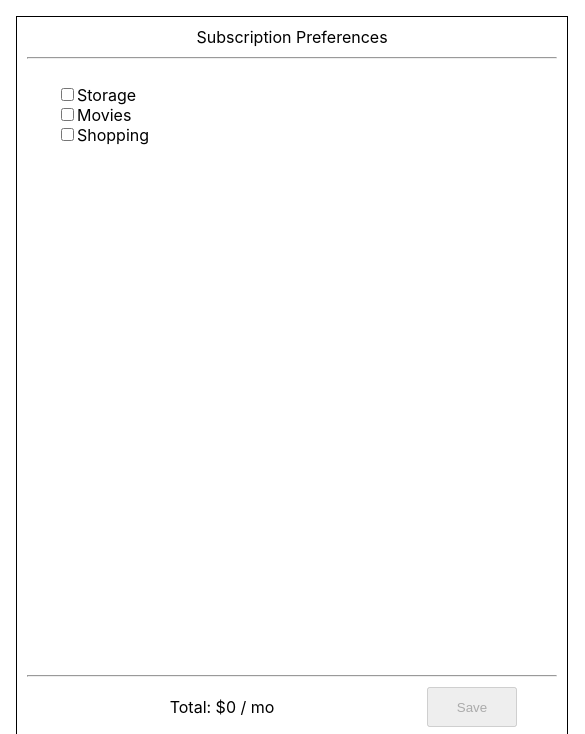
Scenario: Save Button Enable/Disable › Select Feature
Click the checkbox with test id "checkBox" showing "Movies": (68, 114) [61,108,74,121]
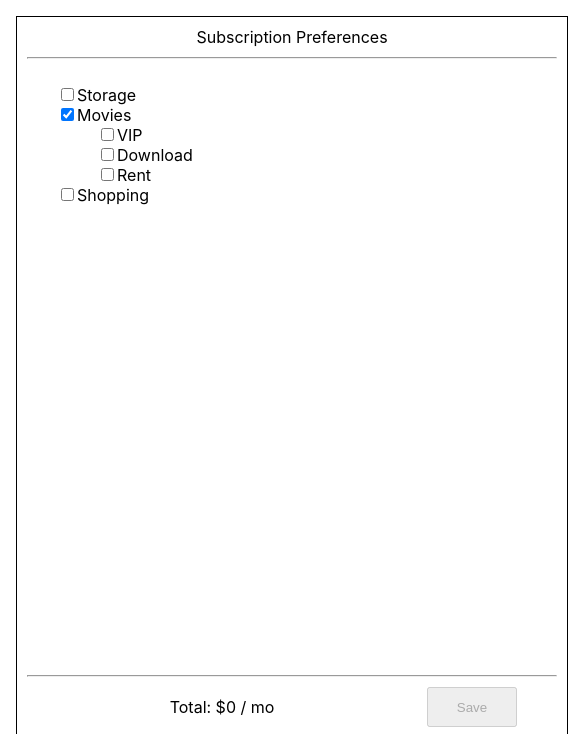
Click the checkbox with test id "checkBox" showing "Download": (108, 154) [101,148,114,161]
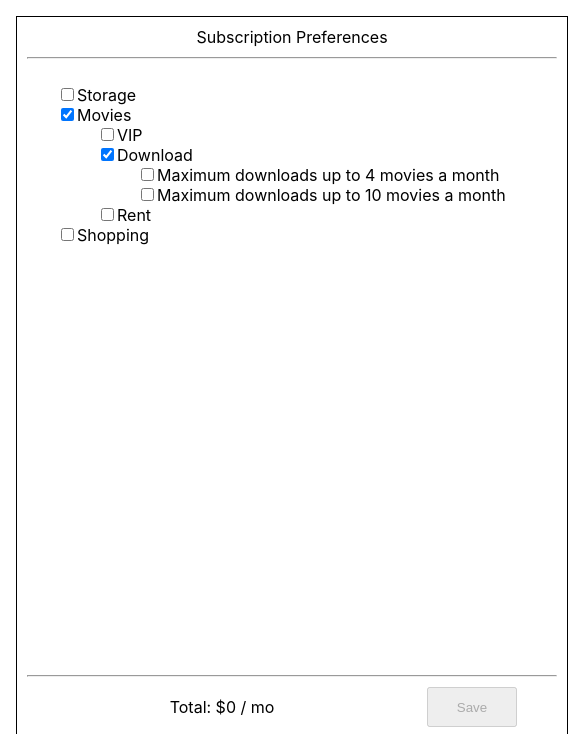
Click the 5th checkbox with test id "checkBox": (148, 174) [141,168,154,181]
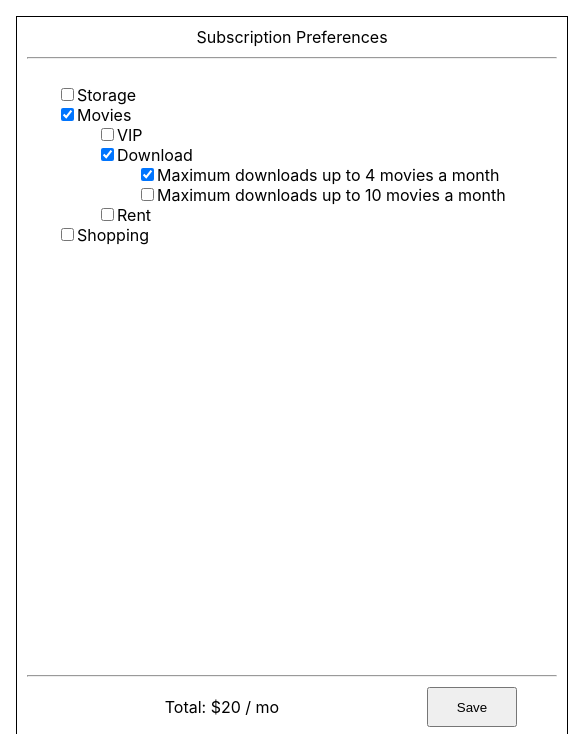
Now the button with test id "save_button" is enabled, box [427,687,517,727]
